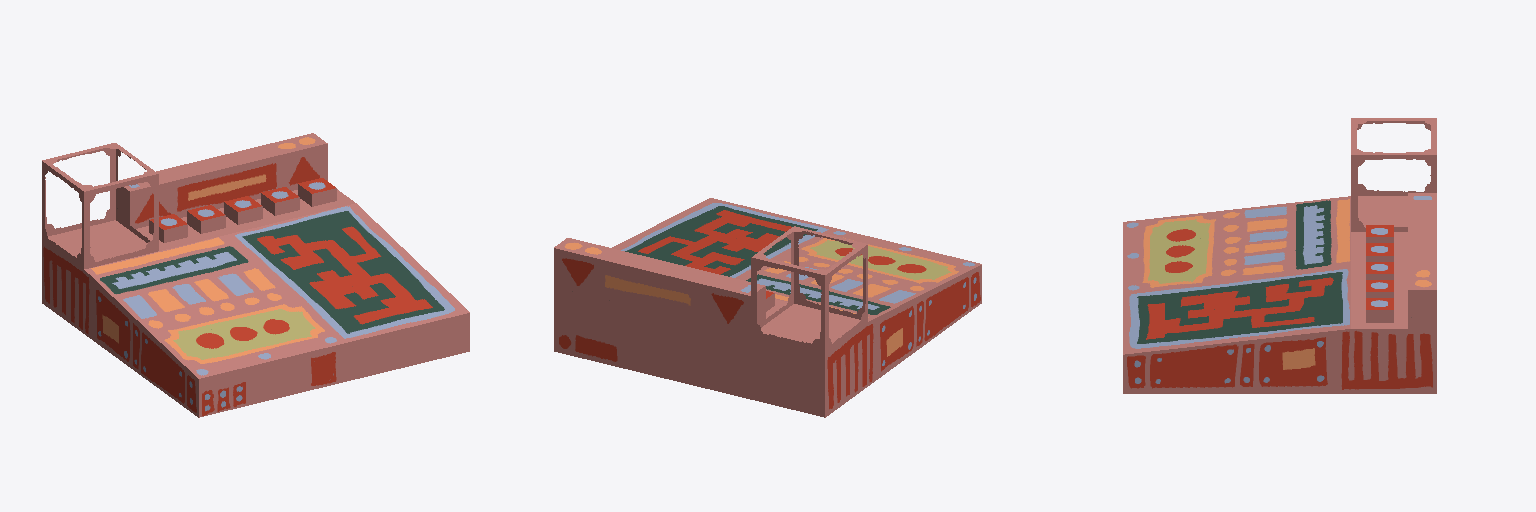
3 renders of one model, left to right at view 1: azimuth 30°, elevation 25°; view 2: azimuth 150°, elevation 25°; view 3: azimuth 270°, elevation 25°, orthographic.
Visible parts, largest first — view 1: board, cuboid; view 2: board; view 3: board, cuboid.
Part boxes in pixels (left/top/right/bottom): board: left=42, top=133, right=469, bottom=417; cuboid: left=149, top=178, right=336, bottom=242; board: left=554, top=198, right=981, bottom=417; board: left=1123, top=118, right=1436, bottom=393; cuboid: left=1366, top=225, right=1393, bottom=322.
Size of the model in its own units: 22 by 11 by 22.
Materials: 1 (1 with a texture image).